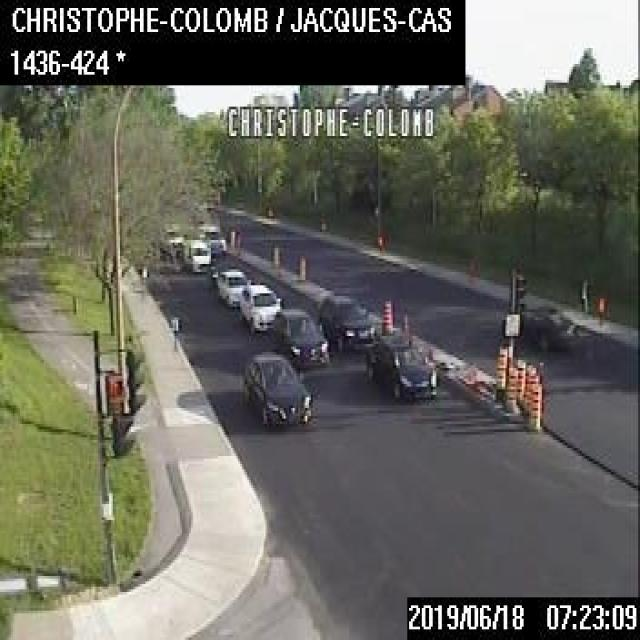construction: (520, 362, 536, 411), (524, 381, 540, 428), (524, 369, 539, 416), (504, 364, 515, 405), (497, 343, 507, 385), (514, 357, 523, 403), (380, 296, 391, 333), (495, 350, 504, 392), (297, 254, 306, 278), (400, 310, 408, 336), (596, 293, 602, 326), (272, 242, 278, 266), (228, 227, 234, 248)
vehicle: (242, 352, 311, 425), (364, 334, 436, 402), (499, 298, 573, 346), (316, 293, 375, 353), (273, 306, 326, 364), (239, 282, 281, 332), (216, 266, 250, 306), (158, 221, 186, 258), (182, 237, 210, 270), (197, 222, 225, 254)
